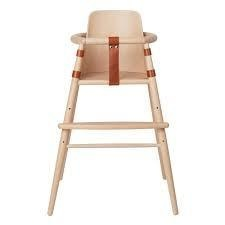obstacle: (48, 10, 177, 214)
